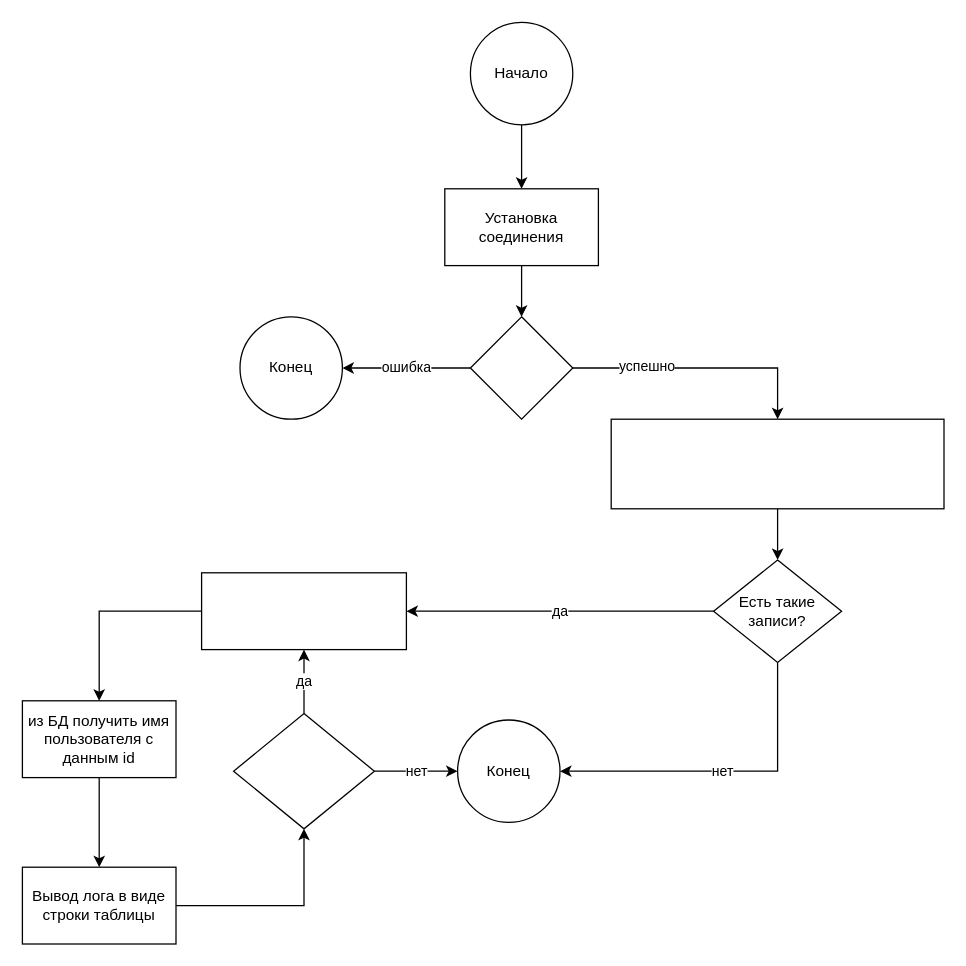
Some shapes in this 966 by 966 pixel diagram are drawn without their labels. Here are the shapes that lost their labels. From the top down, the box of each, then its label:
(610, 418, 944, 509): Получить из БД записи из task_log для задания с заданным title
(200, 572, 406, 650): выбрать created_by (user_id создателя задания) первого из списка
(232, 712, 374, 829): Есть дальше записи?
